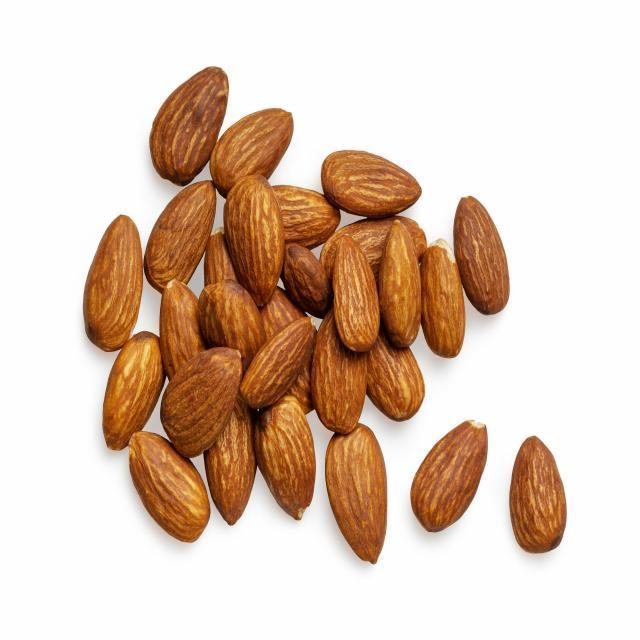almond: (148, 64, 230, 186), (159, 348, 246, 457), (128, 430, 211, 542), (82, 214, 146, 351), (326, 425, 389, 563), (412, 420, 490, 531), (222, 176, 283, 308), (146, 179, 217, 291), (255, 398, 317, 521), (103, 332, 166, 452), (209, 108, 294, 195), (322, 149, 422, 219), (243, 314, 319, 406), (510, 435, 568, 555), (454, 194, 510, 314), (205, 402, 258, 527), (315, 319, 370, 435), (332, 231, 381, 352), (380, 222, 424, 350), (366, 331, 426, 424), (422, 236, 465, 357), (158, 280, 205, 382)
